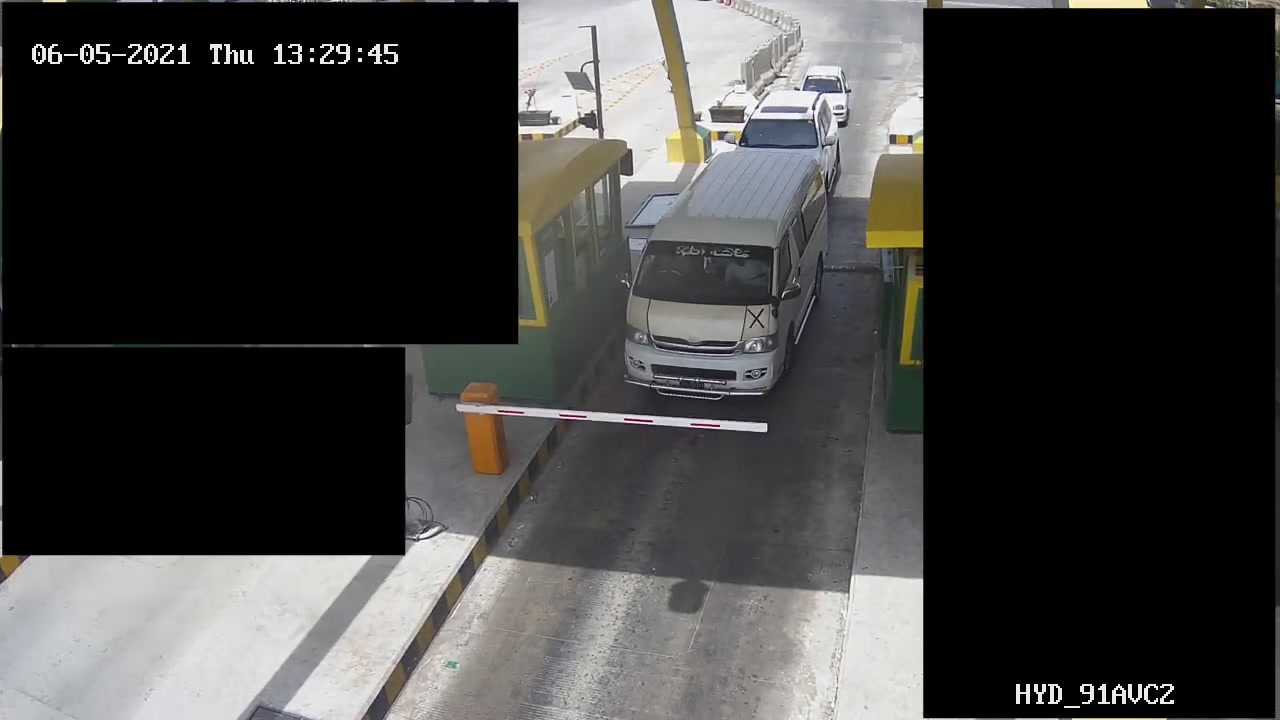F2: (607, 151, 862, 402)
